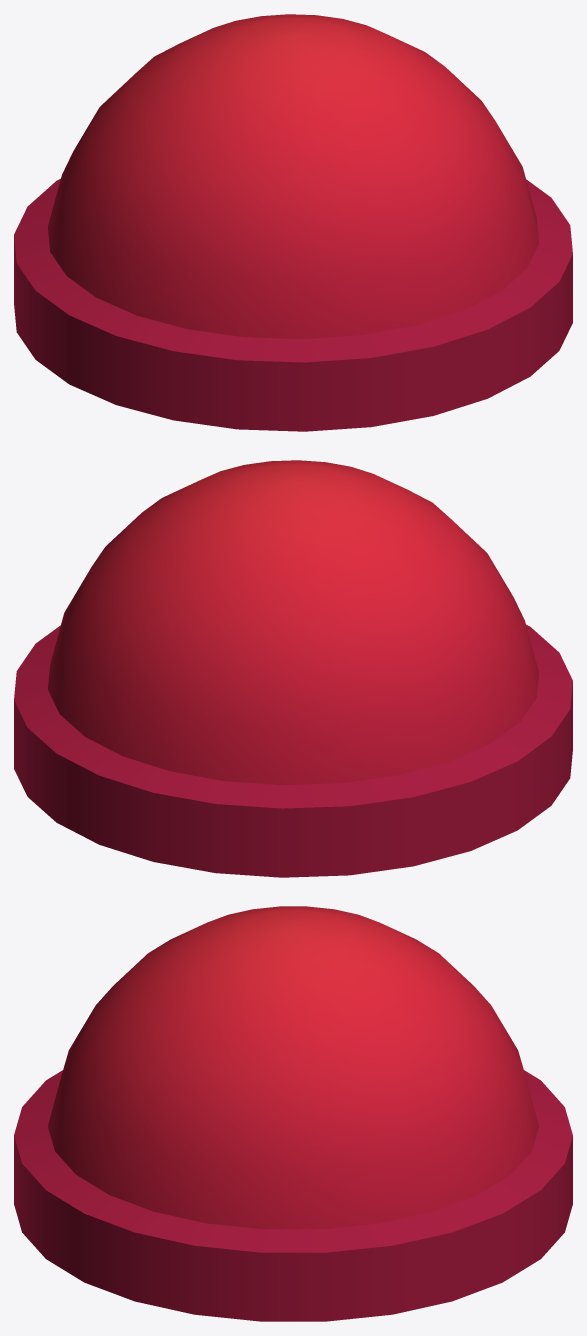
The model's file is Warrior_cap_.fbx.
3 renders of one model, top to bottom at view 1: azimuth 30°, elevation 25°; view 2: azimuth 150°, elevation 25°; view 3: azimuth 270°, elevation 25°, orthographic.
Parts seen in each view (by area): view 1: Sphere001; view 2: Sphere001; view 3: Sphere001.
Part boxes in pixels (x1,y1,x2,y2): Sphere001: [14, 14, 572, 431]; Sphere001: [14, 460, 572, 877]; Sphere001: [14, 906, 572, 1321].
Size of the model in its own units: 89.67 by 50.29 by 90.33.
